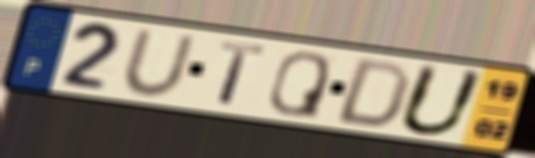2: (56, 20, 125, 95)
D: (330, 56, 416, 130)
Q: (266, 49, 333, 121)
T: (216, 38, 269, 109)
U: (393, 61, 490, 139), (119, 27, 199, 100)
